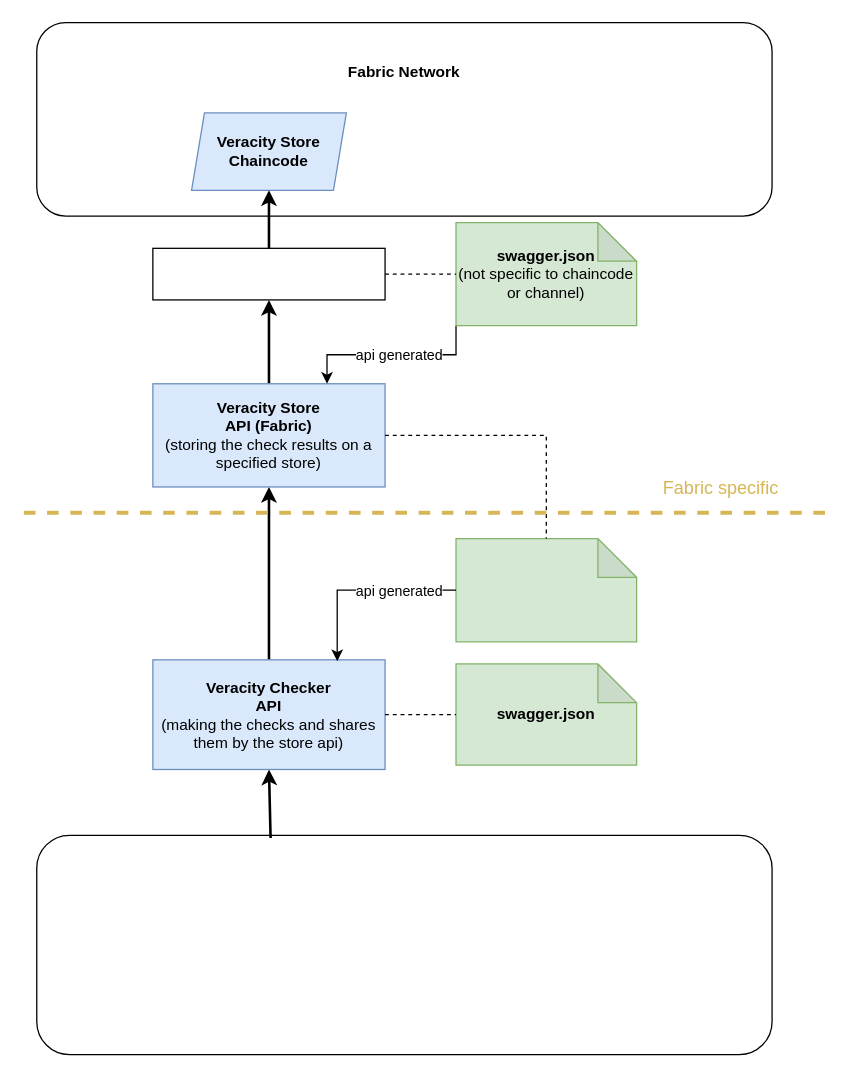
This 862x1077 diagram has some shape labels left out. Each missing label, with the centre of its shape:
Fablo REST: [268,273]
Prometheus: [403,944]
swagger.json (not specific to the store): [546,589]
